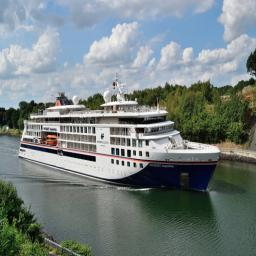cruises: (18, 75, 223, 196)
